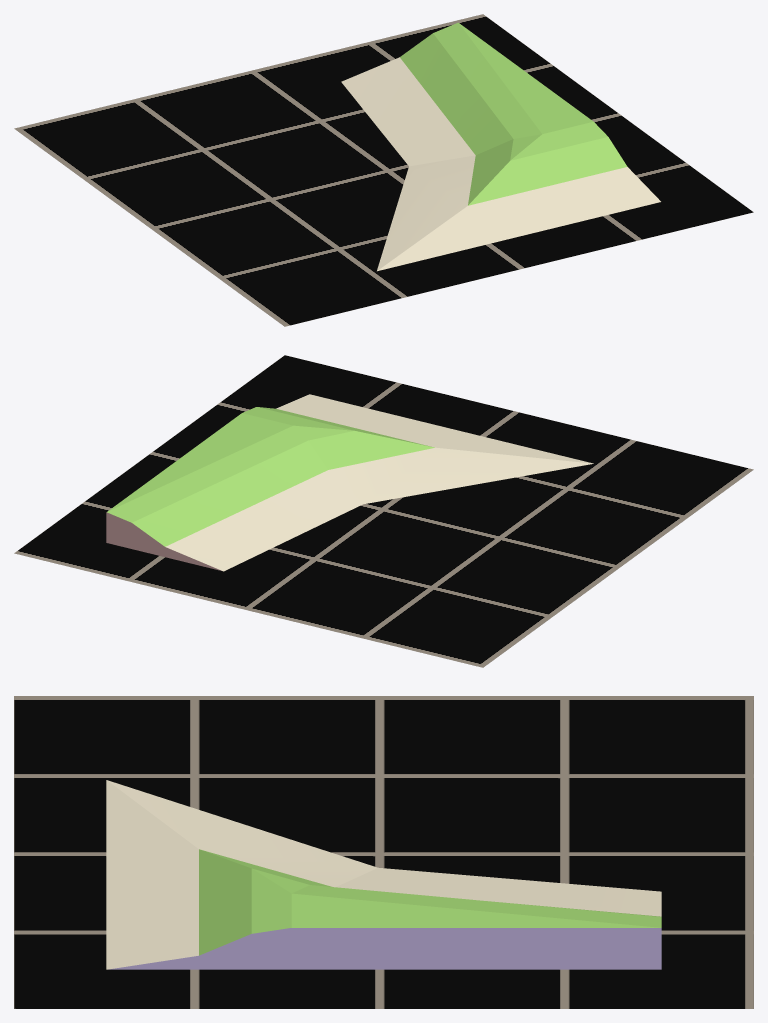
Rendered from Path_Terrain_Y_Curve_Inner_2x3.glb.
3 renders of one model, top to bottom at view 1: azimuth 30°, elevation 25°; view 2: azimuth 150°, elevation 25°; view 3: azimuth 270°, elevation 25°, orthographic. The views are drawn at different scales.
Visible parts, largest first — view 1: Floor, Path_Terrain_Y_Curve_Inner_2x3; view 2: Floor, Path_Terrain_Y_Curve_Inner_2x3; view 3: Floor, Path_Terrain_Y_Curve_Inner_2x3.
Part boxes in pixels (bbox=[...]): Floor: bbox=[14, 14, 753, 326]; Path_Terrain_Y_Curve_Inner_2x3: bbox=[341, 22, 660, 271]; Floor: bbox=[14, 355, 753, 667]; Path_Terrain_Y_Curve_Inner_2x3: bbox=[106, 394, 593, 571]; Floor: bbox=[14, 696, 753, 1008]; Path_Terrain_Y_Curve_Inner_2x3: bbox=[106, 780, 661, 969].
Size of the model in its own units: 400 by 25 by 400.
6 materials, 1 textured.
